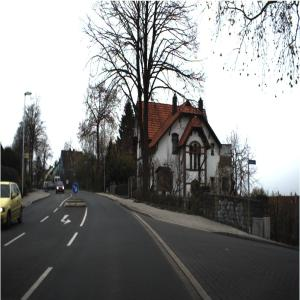keep right: (73, 183, 80, 195)
